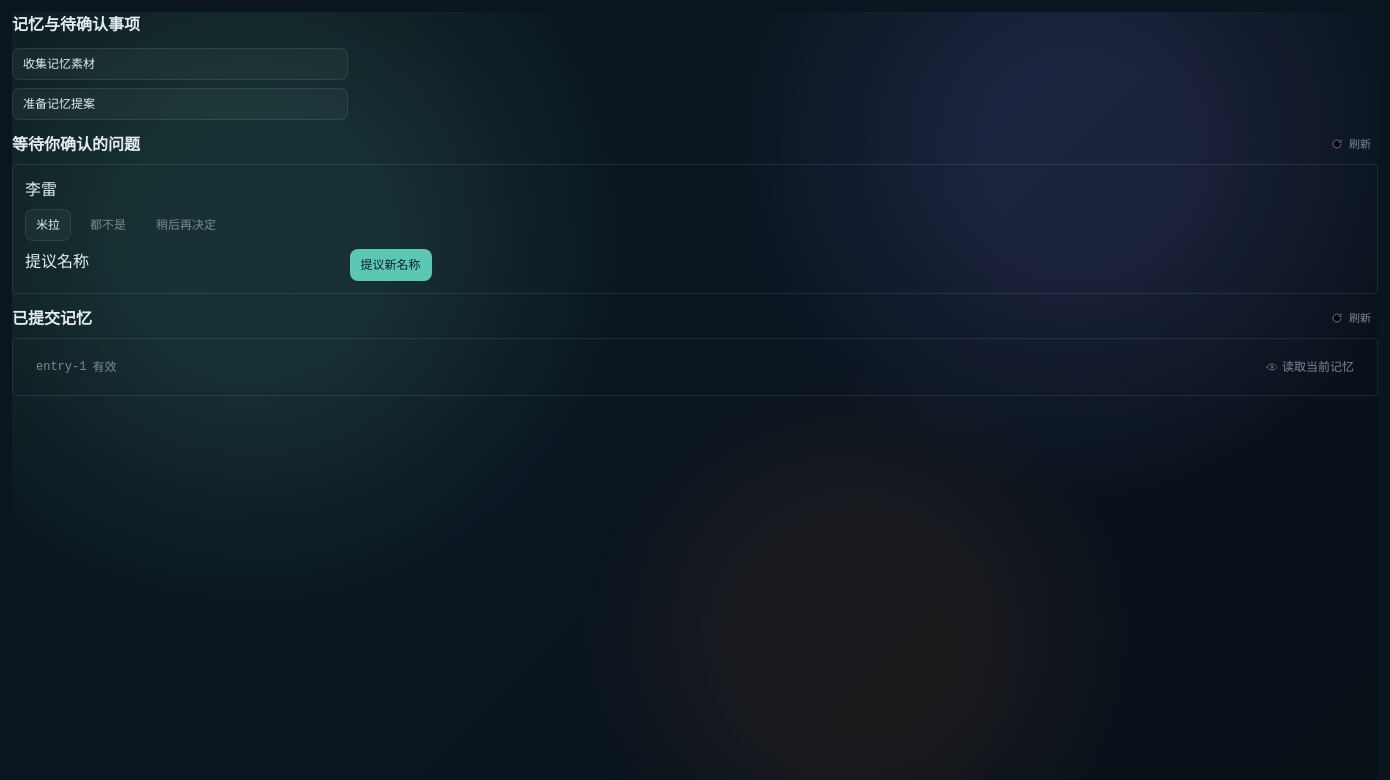
Scenario: MemoryQueryPanel › only sends a prepared proposal after the player explicitly clicks send
Click the button "准备记忆提案" at (59, 104), box [12, 88, 348, 120]
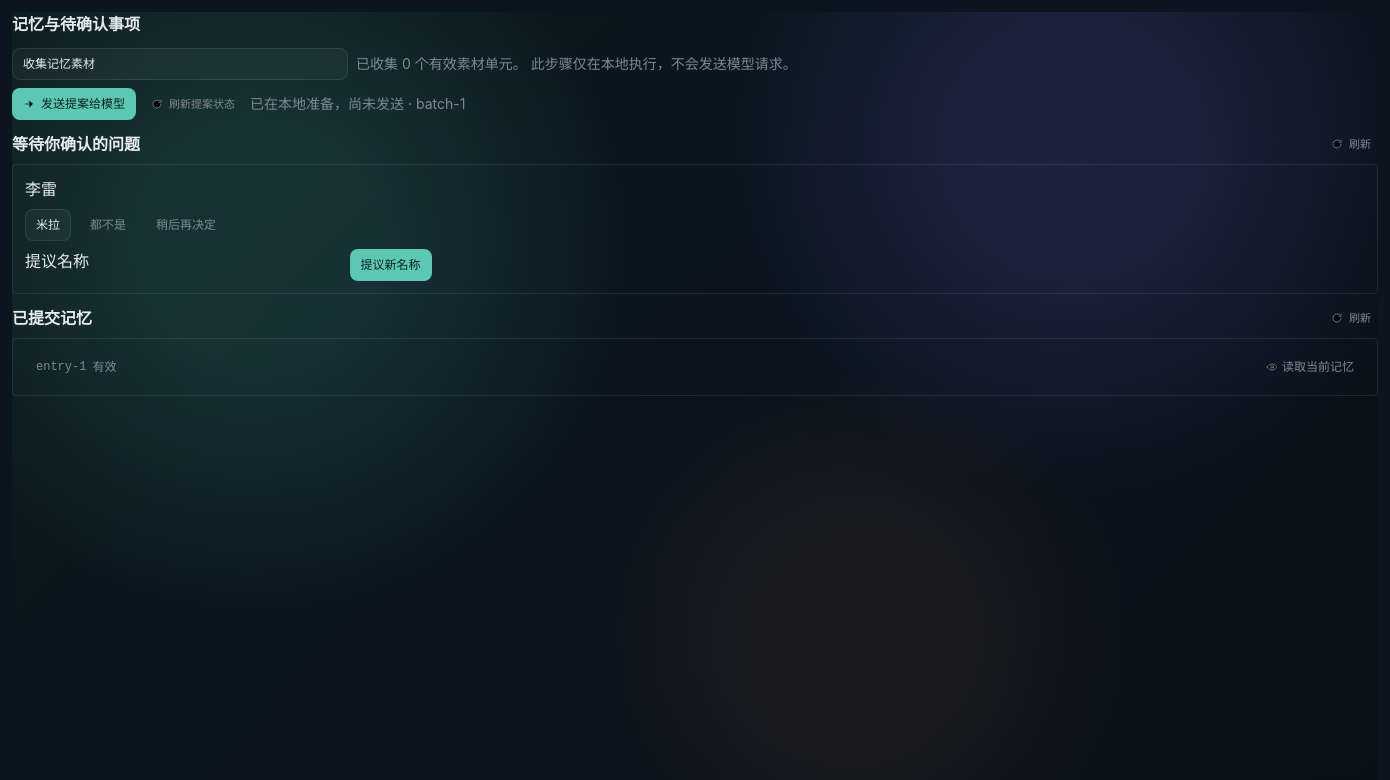
Click the button "发送提案给模型" at (74, 104), box [12, 88, 136, 120]
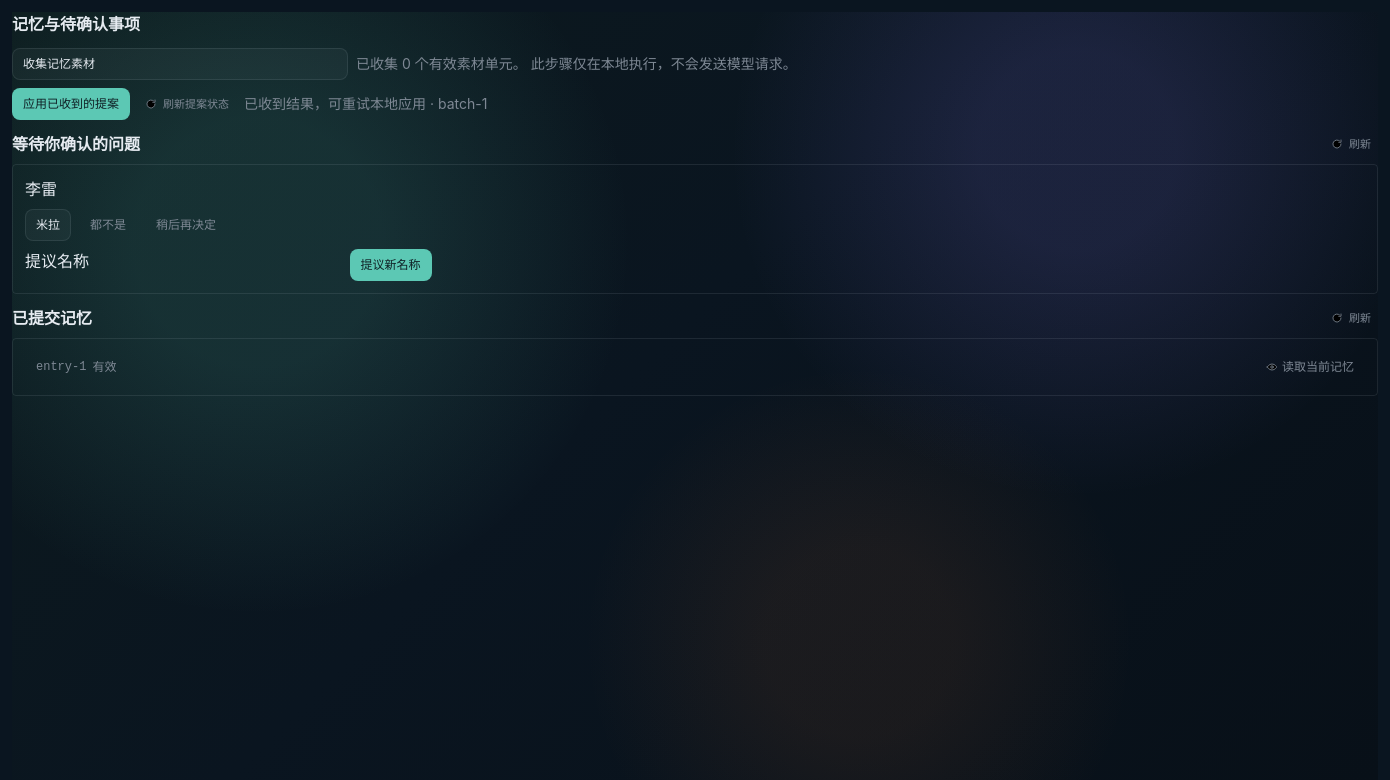
Expected: the text "已收到" is shown, [12, 88, 130, 120]
